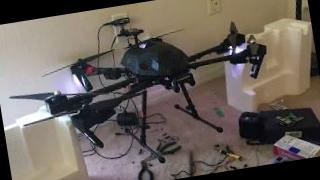drone: (0, 0, 280, 162)
